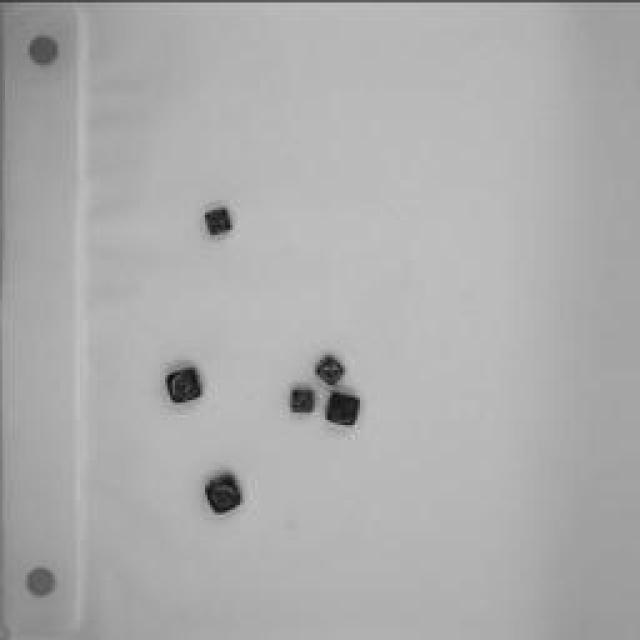dice_1: (160, 360, 208, 408), (200, 202, 235, 238)
dice_2: (200, 468, 248, 518), (321, 390, 364, 430)
dice_5: (311, 349, 349, 389), (286, 381, 322, 419)
